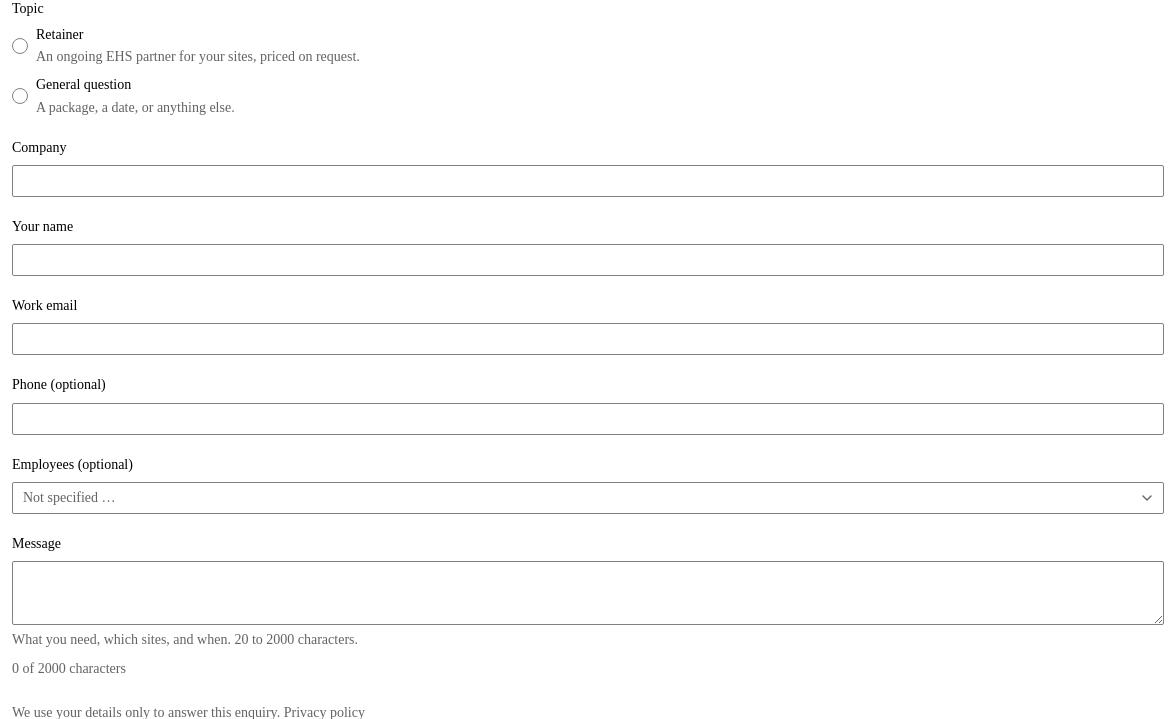
Test: EnquiryForm (AC-8) › hands the action the parsed values, the empty honeypot and the mount time, then shows the confirmation (AC-9)
The width and height of the screenshot is (1176, 719).
Type "Muster AG" into the field labelled "Company". click: point(588, 181)
box: [12,165,1164,197]
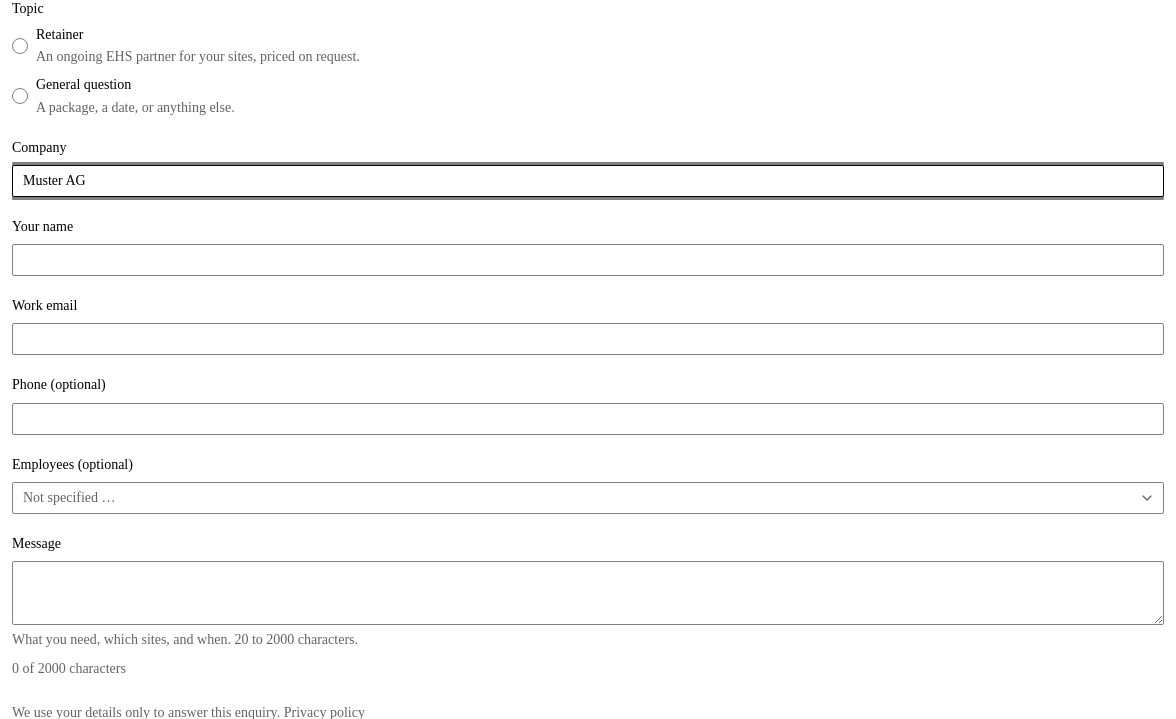
Type "Clara Muster" into the field labelled "Your name". click: point(588, 260)
box: [12,244,1164,276]
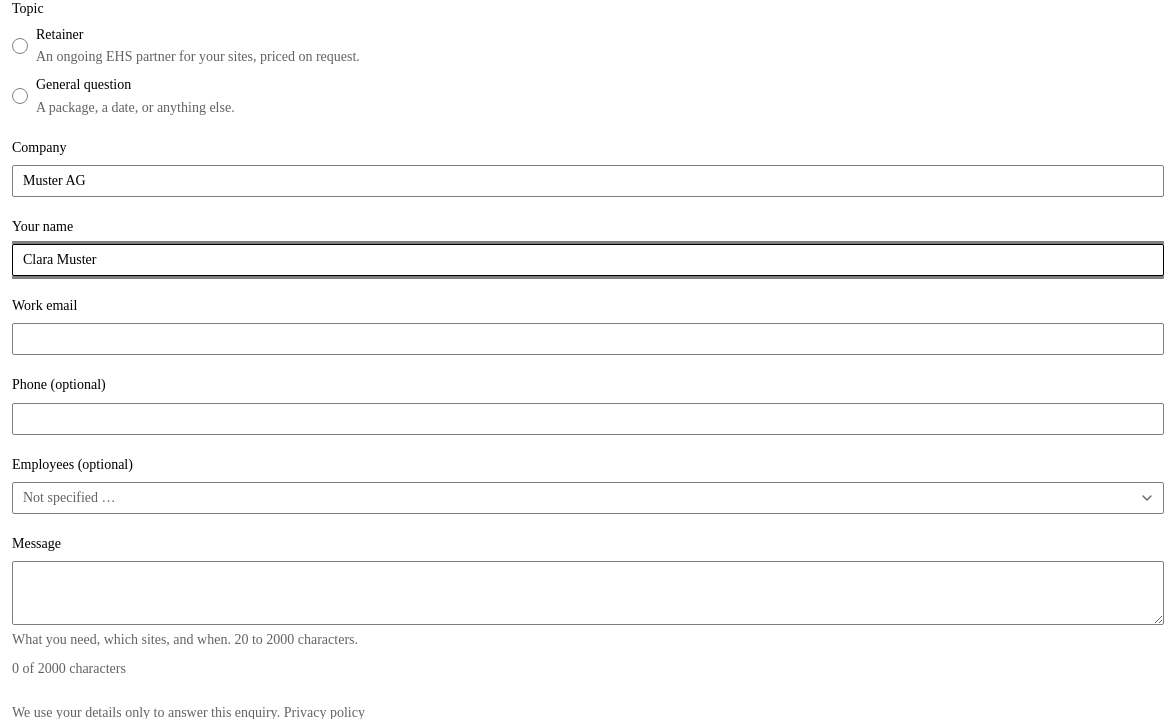
Type "Clara@Example.test" into the field labelled "Work email". click: point(588, 339)
box: [12,323,1164,355]
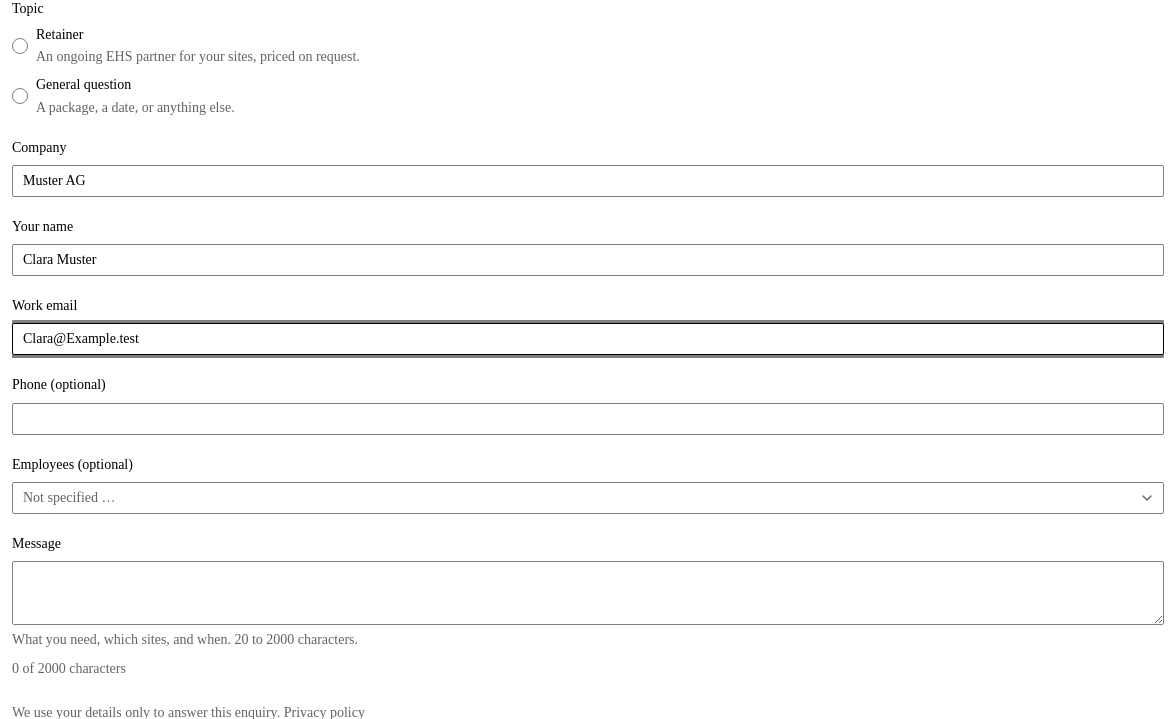
Type "We run three sites in Aargau and need a partner for the audits." into the text box labelled "Message". click: point(588, 593)
box: [12,561,1164,625]
(page scrolled)
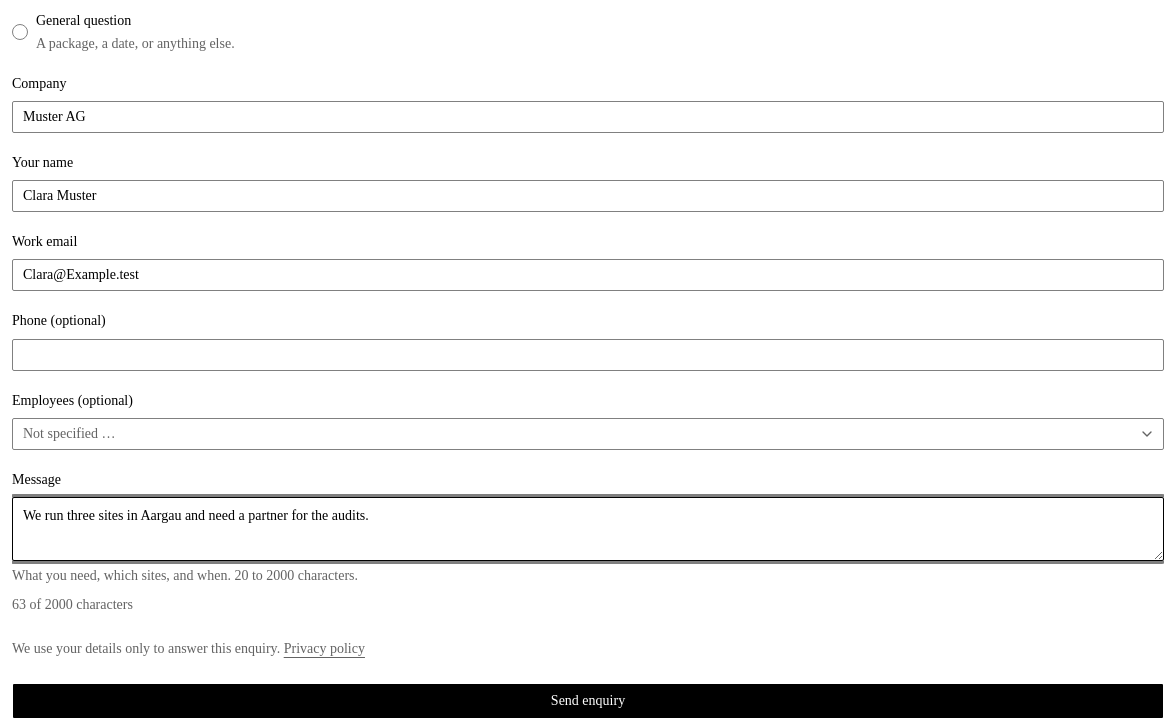
Click the button "Send enquiry". click: point(588, 701)
box: [12,683,1164,718]
(page scrolled)
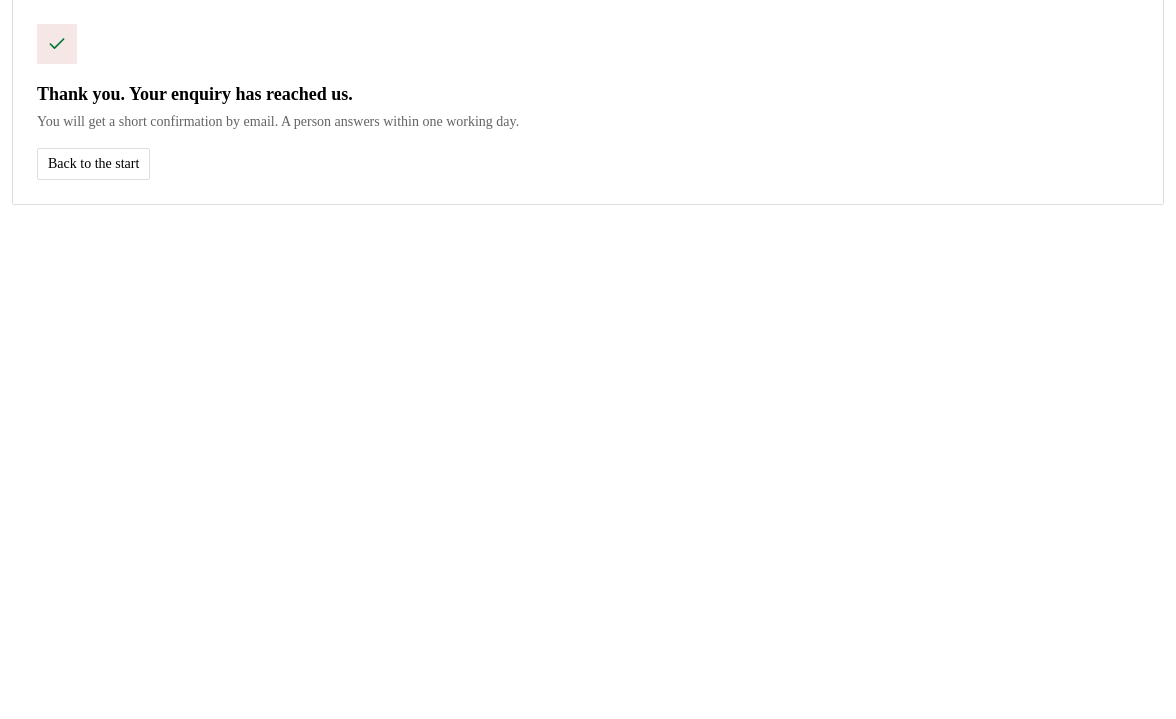
Result: the message shows "Thank you. Your enquiry has reached us." at [37,84,353,104]
Result: the message shows "You will get a short confirmation by email. A person answers within one working day." at [37,114,519,129]
Result: the button "Send enquiry" is gone
